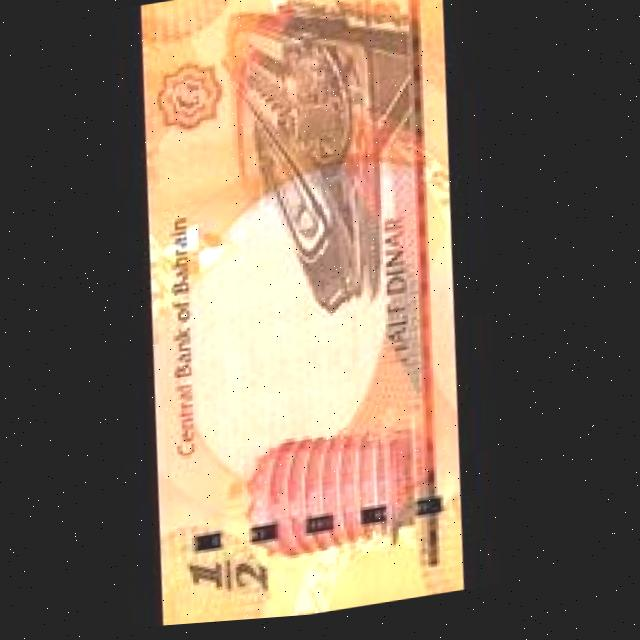banknote: (109, 0, 495, 632)
